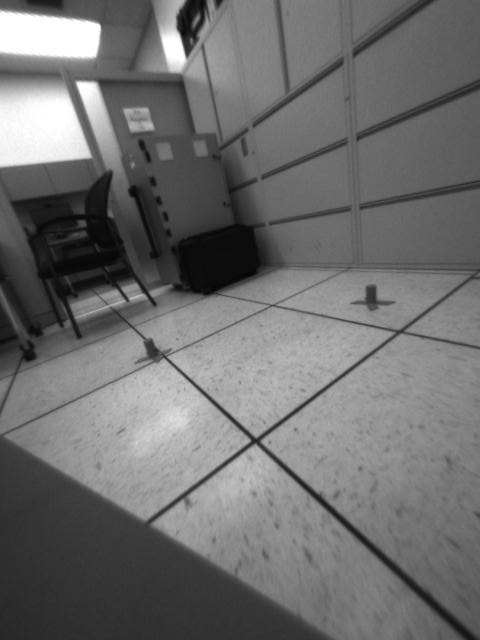X: (348, 282, 396, 312), (136, 337, 173, 364)
